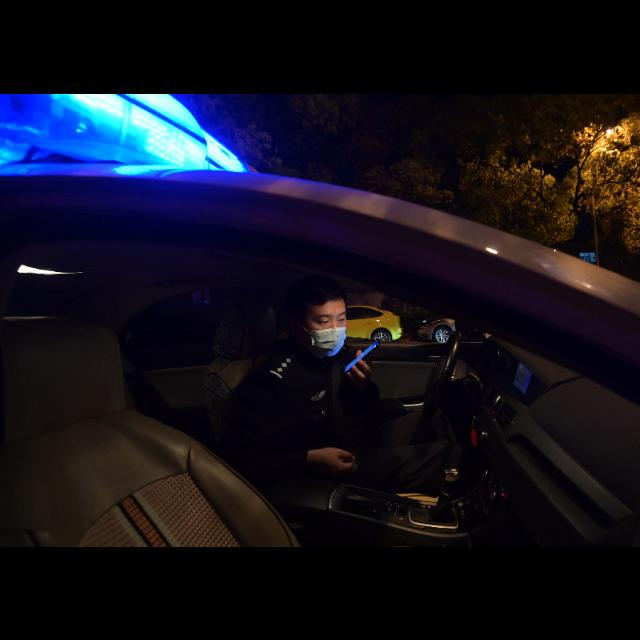masks: (307, 323, 355, 363)
